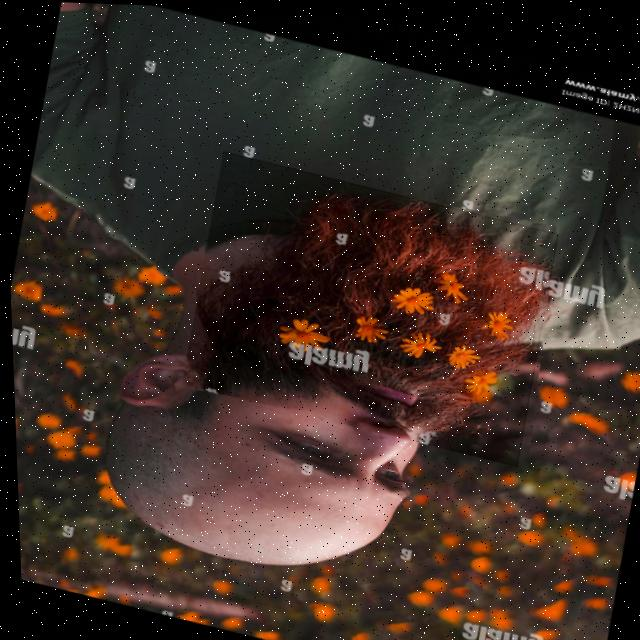beard: (194, 190, 545, 427)
